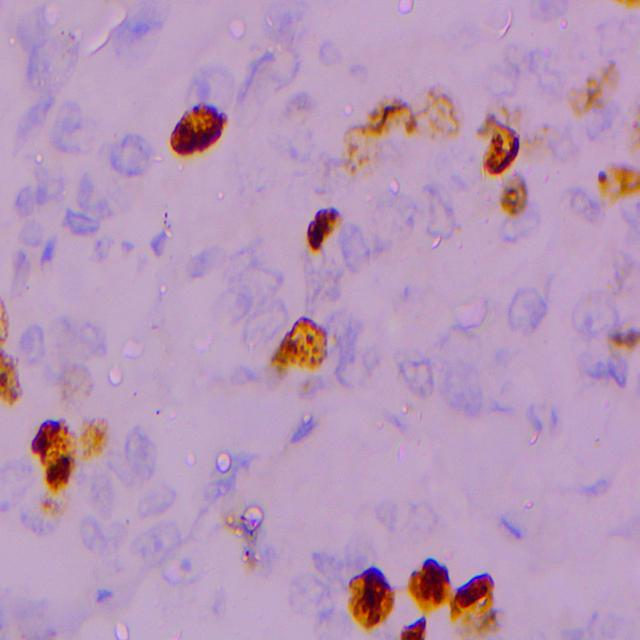Healthy cell: (113, 0, 176, 69), (22, 35, 75, 101), (52, 102, 108, 154), (573, 340, 627, 390), (287, 573, 337, 626), (434, 365, 482, 420), (504, 286, 548, 342), (164, 539, 214, 588), (122, 426, 164, 481), (233, 265, 282, 311), (263, 0, 312, 46), (193, 64, 238, 114), (109, 132, 154, 180), (0, 454, 35, 512), (519, 53, 564, 96), (403, 504, 449, 540), (138, 520, 176, 562), (89, 465, 120, 516), (578, 290, 612, 336), (210, 286, 250, 325), (16, 3, 50, 44), (345, 219, 374, 266), (484, 54, 518, 94), (419, 184, 444, 238), (562, 182, 597, 220), (335, 359, 380, 388), (140, 482, 179, 515), (9, 100, 54, 128), (182, 247, 223, 276), (60, 208, 103, 235), (78, 519, 107, 559), (529, 0, 570, 27), (243, 306, 286, 331), (503, 215, 541, 243), (18, 323, 42, 362), (73, 174, 97, 207), (15, 220, 42, 249), (318, 36, 338, 72), (12, 188, 32, 218)
cancer-cell-QiJm: (349, 566, 401, 638), (448, 572, 502, 638), (170, 108, 228, 162), (223, 499, 267, 570), (244, 46, 300, 100), (473, 115, 521, 173), (53, 318, 105, 370), (28, 413, 78, 467), (274, 314, 324, 368), (594, 246, 640, 302), (596, 160, 640, 217), (366, 98, 419, 144), (409, 558, 450, 616), (306, 259, 352, 310), (419, 86, 460, 140), (337, 126, 383, 174), (214, 357, 264, 400), (320, 154, 366, 197), (59, 363, 94, 415), (519, 114, 554, 164), (596, 15, 633, 60), (80, 413, 113, 463), (497, 170, 533, 212), (400, 350, 434, 394), (570, 73, 606, 114), (279, 87, 316, 125), (604, 324, 638, 362), (1, 349, 22, 410), (43, 456, 75, 490), (302, 222, 330, 260), (328, 306, 347, 360), (494, 100, 526, 130), (598, 56, 620, 96), (316, 206, 345, 236), (40, 490, 70, 518), (0, 297, 16, 349), (399, 617, 431, 640), (295, 370, 316, 404), (267, 355, 287, 389), (629, 109, 640, 160), (608, 0, 640, 13), (452, 219, 468, 238)
